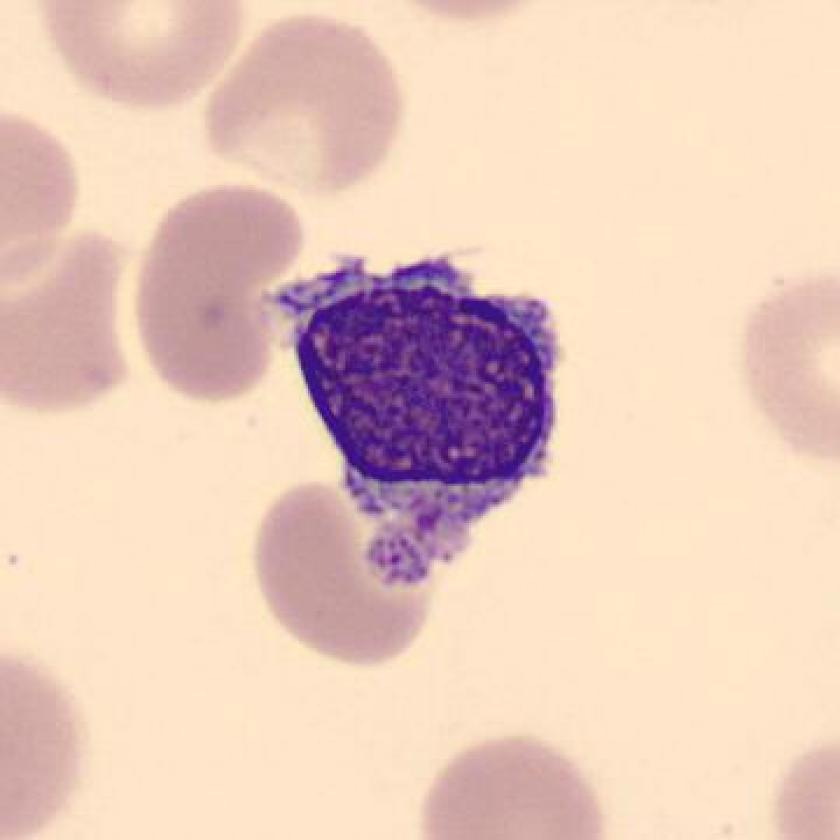lymphocyte: (253, 240, 580, 608)
